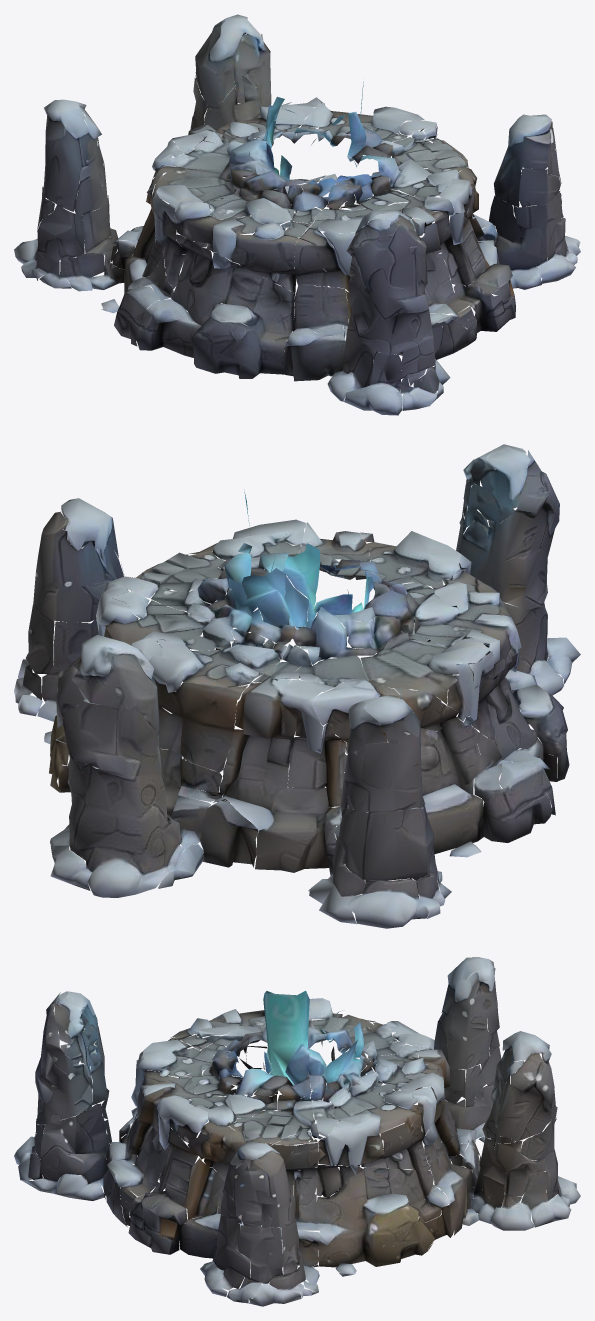
File: anchor-ymiria-base.glb
The picture shows the model from 3 angles, top to bottom: view 1: azimuth 30°, elevation 25°; view 2: azimuth 150°, elevation 25°; view 3: azimuth 270°, elevation 25°; orthographic projection. The views are drawn at different scales.
Parts seen in each view (by area): view 1: tripo_node_5f69baac-2294-4818-b93b-1b3c7f91914e.035, tripo_node_5f69baac-2294-4818-b93b-1b3c7f91914e.015, tripo_node_5f69baac-2294-4818-b93b-1b3c7f91914e.055, tripo_node_5f69baac-2294-4818-b93b-1b3c7f91914e.023, tripo_node_5f69baac-2294-4818-b93b-1b3c7f91914e.058, tripo_node_5f69baac-2294-4818-b93b-1b3c7f91914e.019, tripo_node_5f69baac-2294-4818-b93b-1b3c7f91914e.106, tripo_node_5f69baac-2294-4818-b93b-1b3c7f91914e.026, tripo_node_5f69baac-2294-4818-b93b-1b3c7f91914e.105, tripo_node_5f69baac-2294-4818-b93b-1b3c7f91914e.050, tripo_node_5f69baac-2294-4818-b93b-1b3c7f91914e.089, tripo_node_5f69baac-2294-4818-b93b-1b3c7f91914e.109 (+55 smaller); view 2: tripo_node_5f69baac-2294-4818-b93b-1b3c7f91914e.029, tripo_node_5f69baac-2294-4818-b93b-1b3c7f91914e.035, tripo_node_5f69baac-2294-4818-b93b-1b3c7f91914e.023, tripo_node_5f69baac-2294-4818-b93b-1b3c7f91914e.083, tripo_node_5f69baac-2294-4818-b93b-1b3c7f91914e.038, tripo_node_5f69baac-2294-4818-b93b-1b3c7f91914e.223, tripo_node_5f69baac-2294-4818-b93b-1b3c7f91914e.192, tripo_node_5f69baac-2294-4818-b93b-1b3c7f91914e.019, tripo_node_5f69baac-2294-4818-b93b-1b3c7f91914e.167, tripo_node_5f69baac-2294-4818-b93b-1b3c7f91914e.104, tripo_node_5f69baac-2294-4818-b93b-1b3c7f91914e.103, tripo_node_5f69baac-2294-4818-b93b-1b3c7f91914e.173 (+61 smaller); view 3: tripo_node_5f69baac-2294-4818-b93b-1b3c7f91914e.025, tripo_node_5f69baac-2294-4818-b93b-1b3c7f91914e.035, tripo_node_5f69baac-2294-4818-b93b-1b3c7f91914e.112, tripo_node_5f69baac-2294-4818-b93b-1b3c7f91914e.117, tripo_node_5f69baac-2294-4818-b93b-1b3c7f91914e.038, tripo_node_5f69baac-2294-4818-b93b-1b3c7f91914e.045, tripo_node_5f69baac-2294-4818-b93b-1b3c7f91914e.051, tripo_node_5f69baac-2294-4818-b93b-1b3c7f91914e.139, tripo_node_5f69baac-2294-4818-b93b-1b3c7f91914e.118, tripo_node_5f69baac-2294-4818-b93b-1b3c7f91914e.036, tripo_node_5f69baac-2294-4818-b93b-1b3c7f91914e.070, tripo_node_5f69baac-2294-4818-b93b-1b3c7f91914e.114 (+63 smaller).
Part boxes in pixels (bbox=[...]): tripo_node_5f69baac-2294-4818-b93b-1b3c7f91914e.035: bbox=[346, 219, 431, 355]; tripo_node_5f69baac-2294-4818-b93b-1b3c7f91914e.015: bbox=[191, 267, 295, 378]; tripo_node_5f69baac-2294-4818-b93b-1b3c7f91914e.055: bbox=[494, 191, 567, 289]; tripo_node_5f69baac-2294-4818-b93b-1b3c7f91914e.023: bbox=[43, 99, 88, 211]; tripo_node_5f69baac-2294-4818-b93b-1b3c7f91914e.058: bbox=[171, 234, 234, 325]; tripo_node_5f69baac-2294-4818-b93b-1b3c7f91914e.019: bbox=[195, 14, 260, 105]; tripo_node_5f69baac-2294-4818-b93b-1b3c7f91914e.106: bbox=[231, 223, 298, 293]; tripo_node_5f69baac-2294-4818-b93b-1b3c7f91914e.026: bbox=[284, 328, 345, 381]; tripo_node_5f69baac-2294-4818-b93b-1b3c7f91914e.105: bbox=[174, 201, 265, 260]; tripo_node_5f69baac-2294-4818-b93b-1b3c7f91914e.050: bbox=[21, 205, 84, 280]; tripo_node_5f69baac-2294-4818-b93b-1b3c7f91914e.089: bbox=[136, 299, 201, 357]; tripo_node_5f69baac-2294-4818-b93b-1b3c7f91914e.109: bbox=[292, 285, 348, 335]; tripo_node_5f69baac-2294-4818-b93b-1b3c7f91914e.029: bbox=[67, 758, 184, 897]; tripo_node_5f69baac-2294-4818-b93b-1b3c7f91914e.035: bbox=[456, 450, 559, 609]; tripo_node_5f69baac-2294-4818-b93b-1b3c7f91914e.023: bbox=[344, 695, 424, 812]; tripo_node_5f69baac-2294-4818-b93b-1b3c7f91914e.083: bbox=[213, 787, 341, 878]; tripo_node_5f69baac-2294-4818-b93b-1b3c7f91914e.038: bbox=[33, 511, 127, 622]; tripo_node_5f69baac-2294-4818-b93b-1b3c7f91914e.223: bbox=[339, 806, 427, 880]; tripo_node_5f69baac-2294-4818-b93b-1b3c7f91914e.192: bbox=[63, 701, 161, 776]; tripo_node_5f69baac-2294-4818-b93b-1b3c7f91914e.019: bbox=[72, 635, 159, 734]; tripo_node_5f69baac-2294-4818-b93b-1b3c7f91914e.167: bbox=[154, 678, 247, 772]; tripo_node_5f69baac-2294-4818-b93b-1b3c7f91914e.104: bbox=[148, 632, 280, 692]; tripo_node_5f69baac-2294-4818-b93b-1b3c7f91914e.103: bbox=[219, 729, 294, 810]; tripo_node_5f69baac-2294-4818-b93b-1b3c7f91914e.173: bbox=[483, 761, 551, 842]; tripo_node_5f69baac-2294-4818-b93b-1b3c7f91914e.025: bbox=[316, 1166, 435, 1267]; tripo_node_5f69baac-2294-4818-b93b-1b3c7f91914e.035: bbox=[35, 992, 109, 1124]; tripo_node_5f69baac-2294-4818-b93b-1b3c7f91914e.112: bbox=[434, 968, 497, 1069]; tripo_node_5f69baac-2294-4818-b93b-1b3c7f91914e.117: bbox=[40, 1103, 109, 1187]; tripo_node_5f69baac-2294-4818-b93b-1b3c7f91914e.038: bbox=[233, 1151, 295, 1227]; tripo_node_5f69baac-2294-4818-b93b-1b3c7f91914e.045: bbox=[495, 1053, 554, 1141]; tripo_node_5f69baac-2294-4818-b93b-1b3c7f91914e.051: bbox=[263, 990, 309, 1085]; tripo_node_5f69baac-2294-4818-b93b-1b3c7f91914e.139: bbox=[318, 1113, 384, 1166]; tripo_node_5f69baac-2294-4818-b93b-1b3c7f91914e.118: bbox=[227, 1225, 282, 1303]; tripo_node_5f69baac-2294-4818-b93b-1b3c7f91914e.036: bbox=[115, 1117, 169, 1196]; tripo_node_5f69baac-2294-4818-b93b-1b3c7f91914e.070: bbox=[131, 1039, 214, 1106]; tripo_node_5f69baac-2294-4818-b93b-1b3c7f91914e.114: bbox=[165, 1158, 233, 1219].
Size of the model in its own units: 0.8822 by 0.4337 by 1.
1 material, 1 textured.
